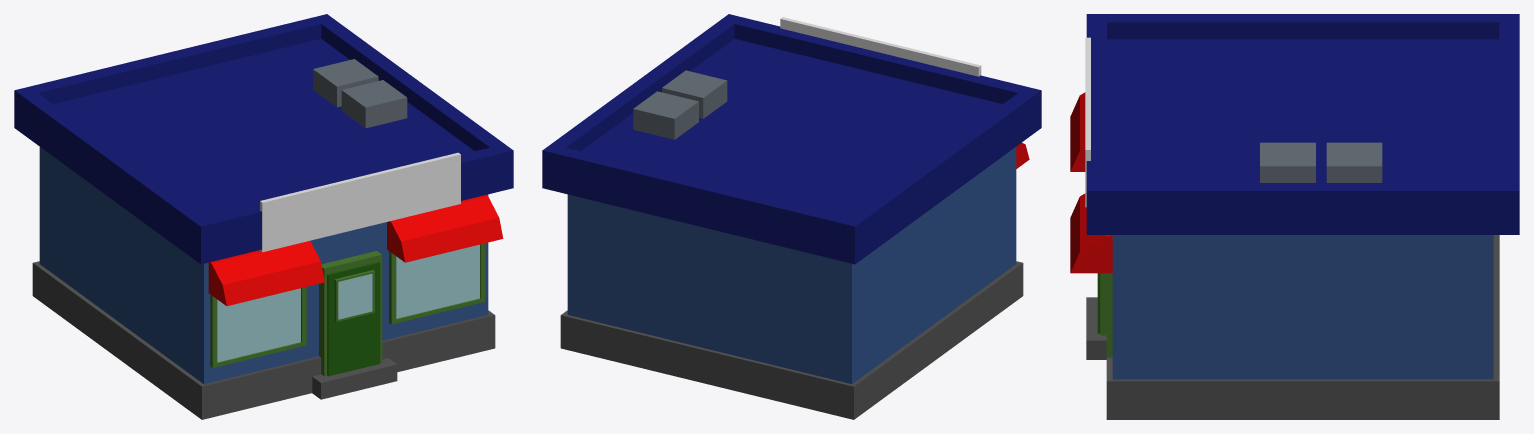
The model's file is BeerPlace2.dae.
3 views of the same model, side by side, from view 1: azimuth 30°, elevation 25°; view 2: azimuth 150°, elevation 25°; view 3: azimuth 270°, elevation 25° (orthographic). The views are drawn at different scales.
Visible parts, largest first — view 1: BeerPlace2; view 2: BeerPlace2; view 3: BeerPlace2.
Part boxes in pixels (bbox=[...]): BeerPlace2: bbox=[14, 14, 513, 419]; BeerPlace2: bbox=[542, 14, 1041, 419]; BeerPlace2: bbox=[1070, 14, 1519, 419].
Bounding box in the file's own units: 3.72 × 3.99 × 2.41.
